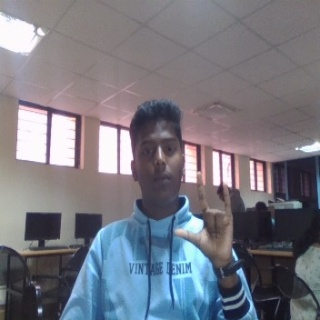Face: (128, 97, 187, 207)
I Love You: (170, 169, 235, 261)
